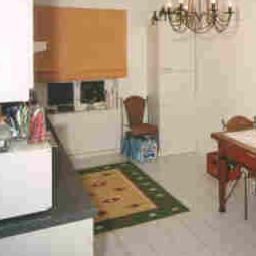Armario: (159, 22, 225, 150)
